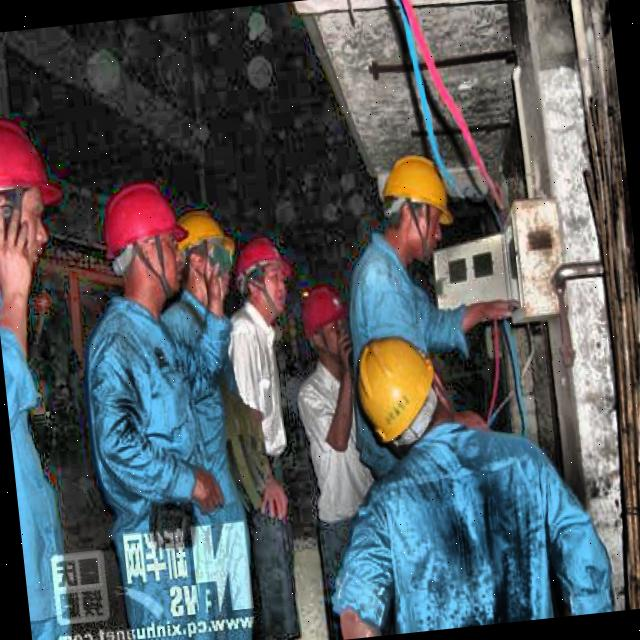helmet: (348, 325, 454, 459), (94, 170, 189, 306), (0, 106, 63, 308), (370, 143, 462, 264), (227, 230, 295, 324), (172, 200, 232, 300), (298, 279, 352, 367)
